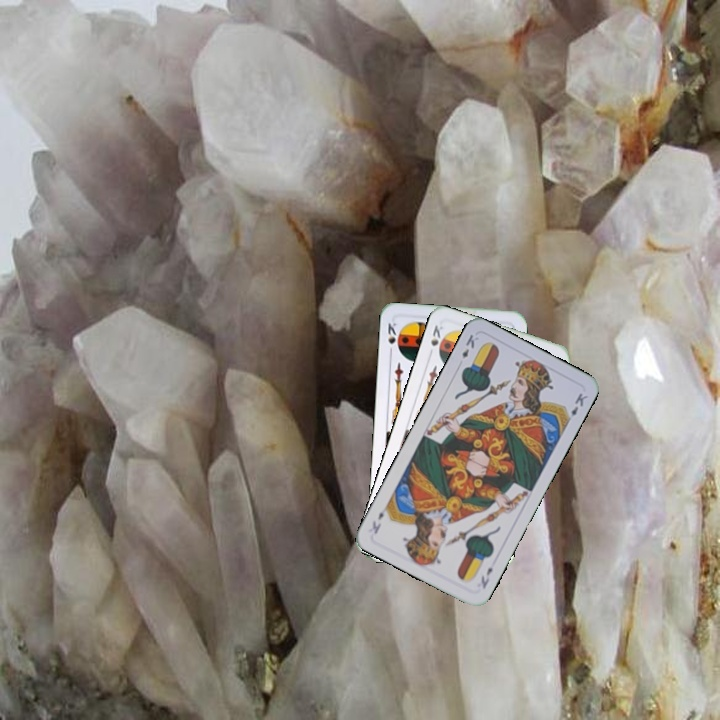EK: (458, 330, 481, 361), (477, 563, 495, 591)
SK: (384, 319, 400, 358), (427, 321, 446, 349)
